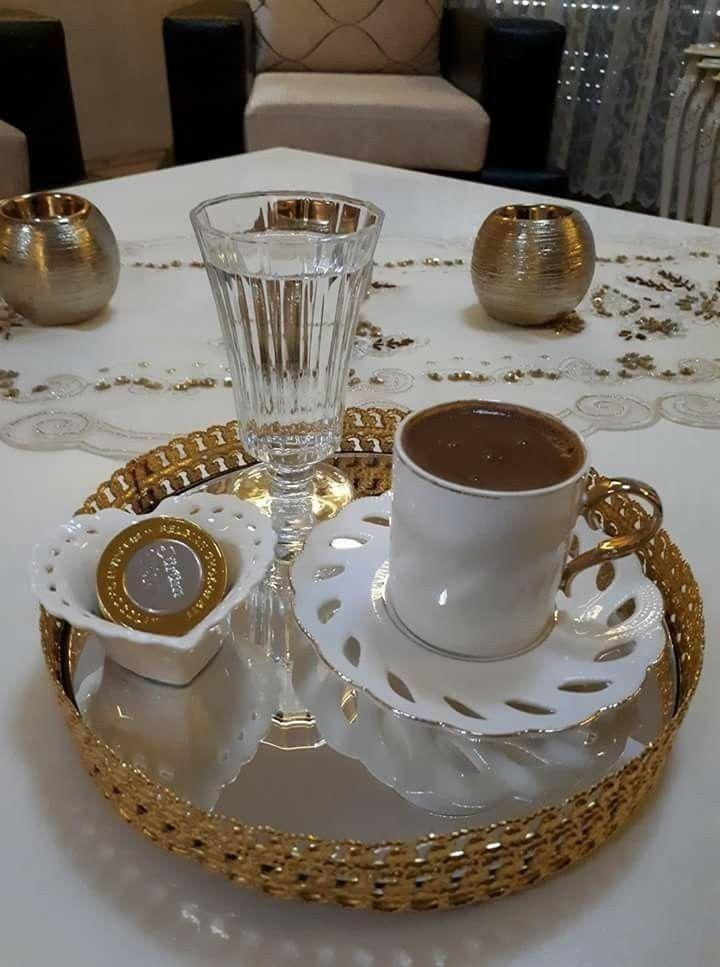cup-handle: (376, 396, 661, 661)
glass-wine: (187, 190, 384, 537)
